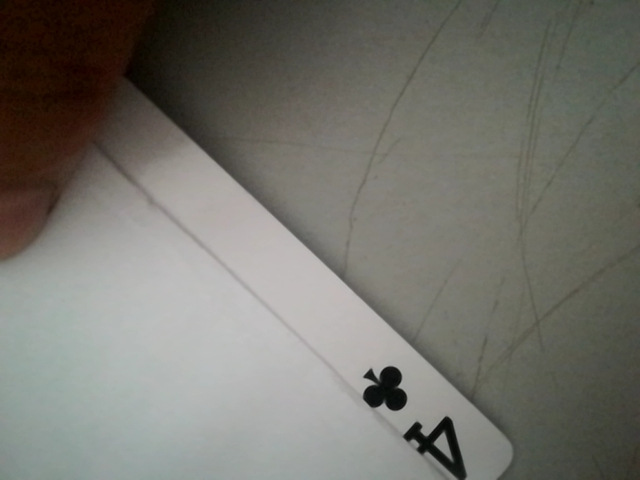mh 4: (346, 358, 490, 478)
